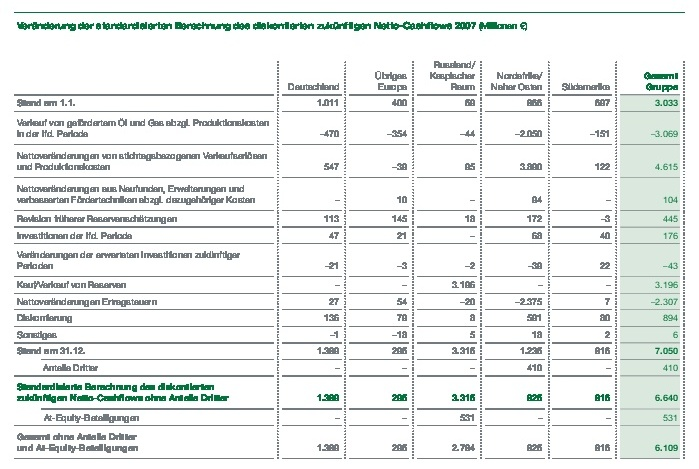table: (0, 0, 699, 469)
